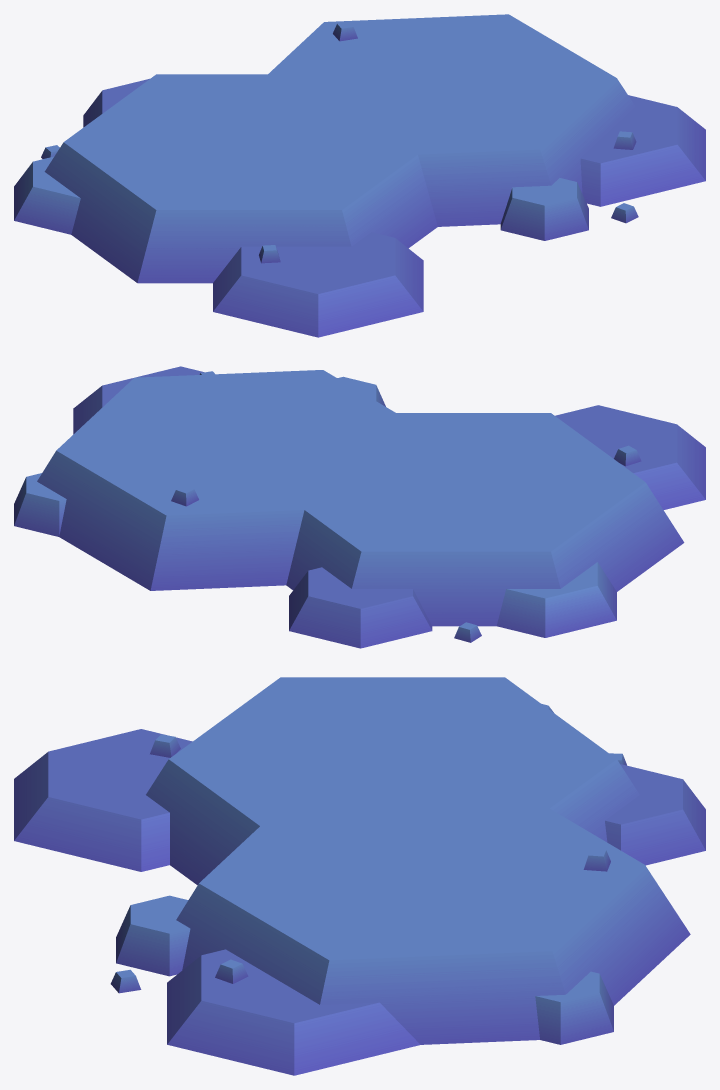
The model's file is pedra grande chao azul.glb.
3 renders of one model, top to bottom at view 1: azimuth 30°, elevation 25°; view 2: azimuth 150°, elevation 25°; view 3: azimuth 270°, elevation 25°, orthographic. The views are drawn at different scales.
Visible parts, largest first — view 1: rock-flat; view 2: rock-flat; view 3: rock-flat.
Boxes of the visible parts, x1,y1,x2,y2 form: rock-flat: (14,14,705,337); rock-flat: (14,366,705,648); rock-flat: (14,677,705,1075).
Bounding box in the file's own units: 1.79 × 0.195 × 1.45.
Materials: 1 (1 with a texture image).
